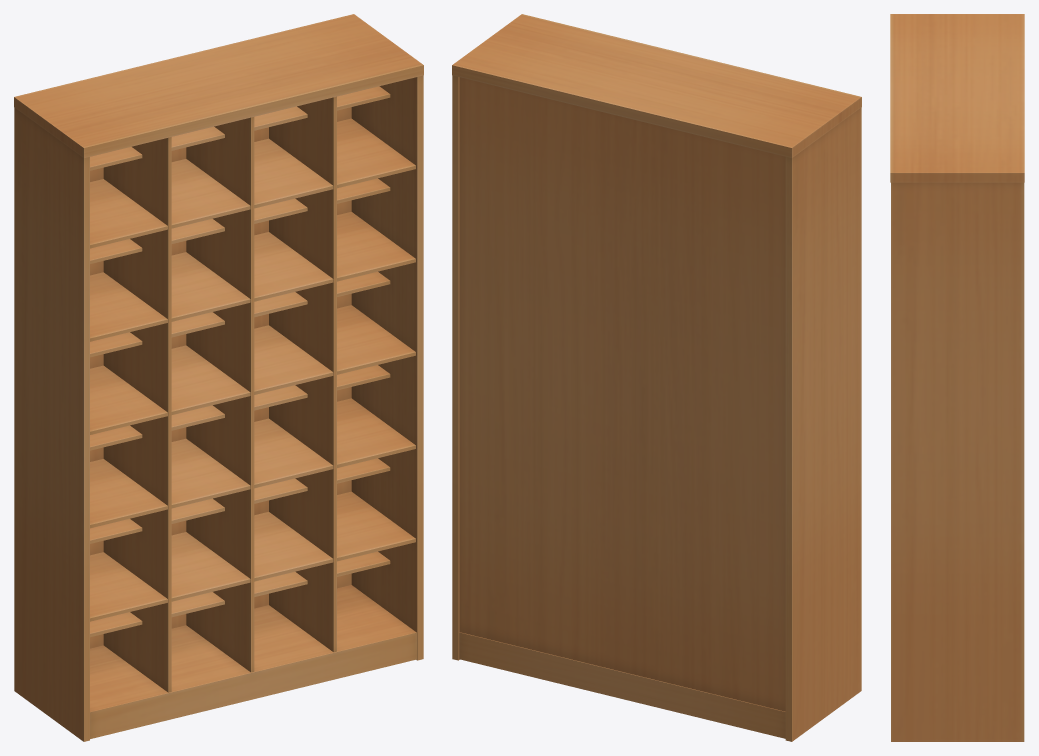
The model's file is set_shoecupboard_b_02.fbx.
3 renders of one model, left to right at view 1: azimuth 30°, elevation 25°; view 2: azimuth 150°, elevation 25°; view 3: azimuth 270°, elevation 25°, orthographic. The views are drawn at different scales.
Parts seen in each view (by area): view 1: set_shoecupboard_b_02; view 2: set_shoecupboard_b_02; view 3: set_shoecupboard_b_02.
Part boxes in pixels (x1,y1,x2,y2): set_shoecupboard_b_02: (14,14,423,741); set_shoecupboard_b_02: (452,14,861,741); set_shoecupboard_b_02: (890,14,1024,741).
Size of the model in its own units: 105 by 175 by 37.38.
